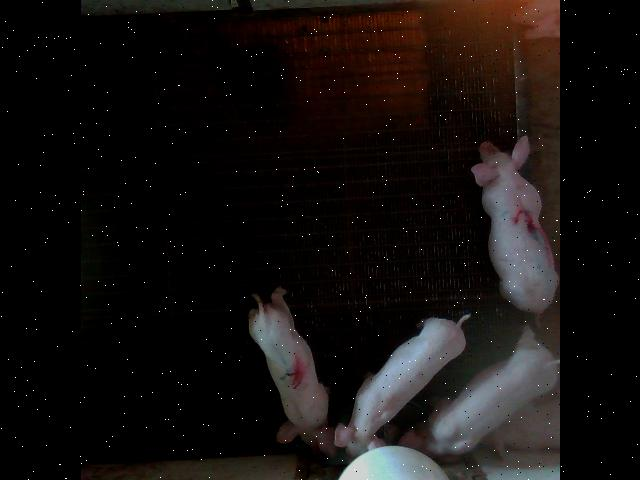pig-3: (470, 138, 557, 314)
pig-4: (248, 289, 334, 455)
